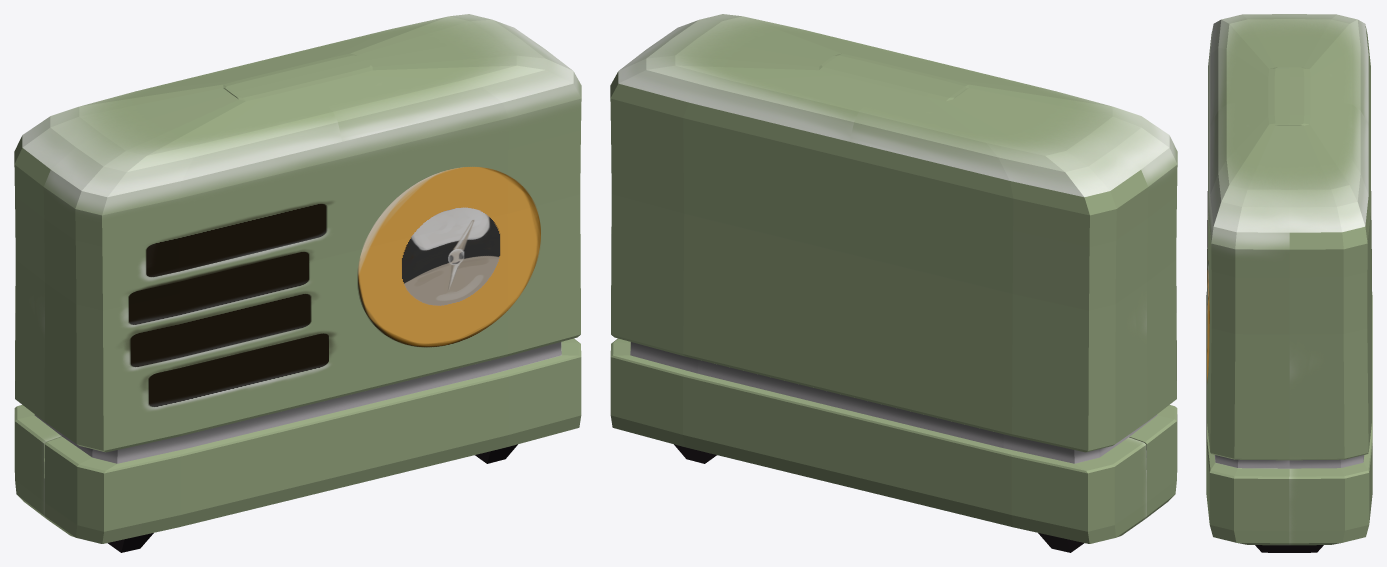
The model's file is radio.fbx.
3 renders of one model, left to right at view 1: azimuth 30°, elevation 25°; view 2: azimuth 150°, elevation 25°; view 3: azimuth 270°, elevation 25°, orthographic. The views are drawn at different scales.
Visible parts, largest first — view 1: Cube.002; view 2: Cube.002; view 3: Cube.002.
Boxes of the visible parts, left/top/right/bottom form: Cube.002: left=14, top=14, right=581, bottom=552; Cube.002: left=610, top=14, right=1177, bottom=552; Cube.002: left=1206, top=14, right=1372, bottom=552.
Bounding box in the file's own units: 123 × 96.52 × 39.01.
1 material, 1 textured.
